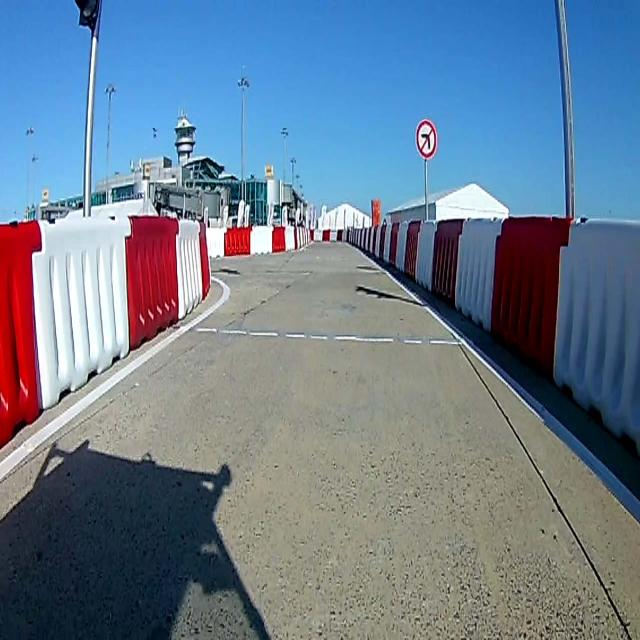soladonulmez: (416, 121, 436, 156)
